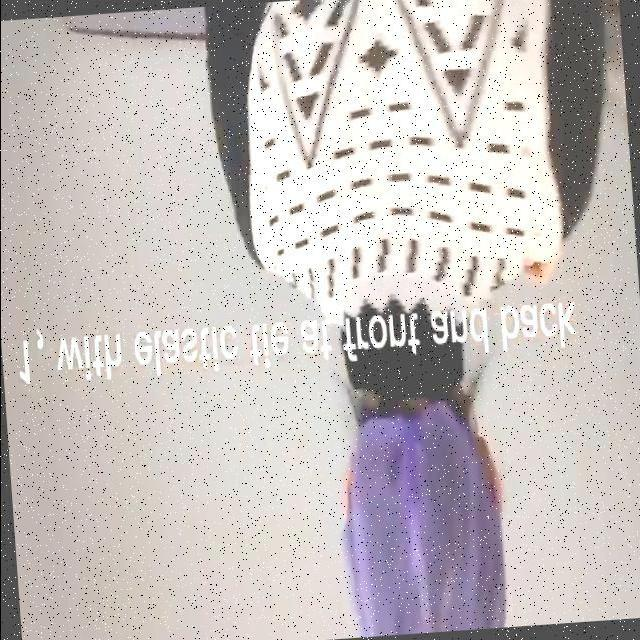gloves: (341, 425, 522, 640)
